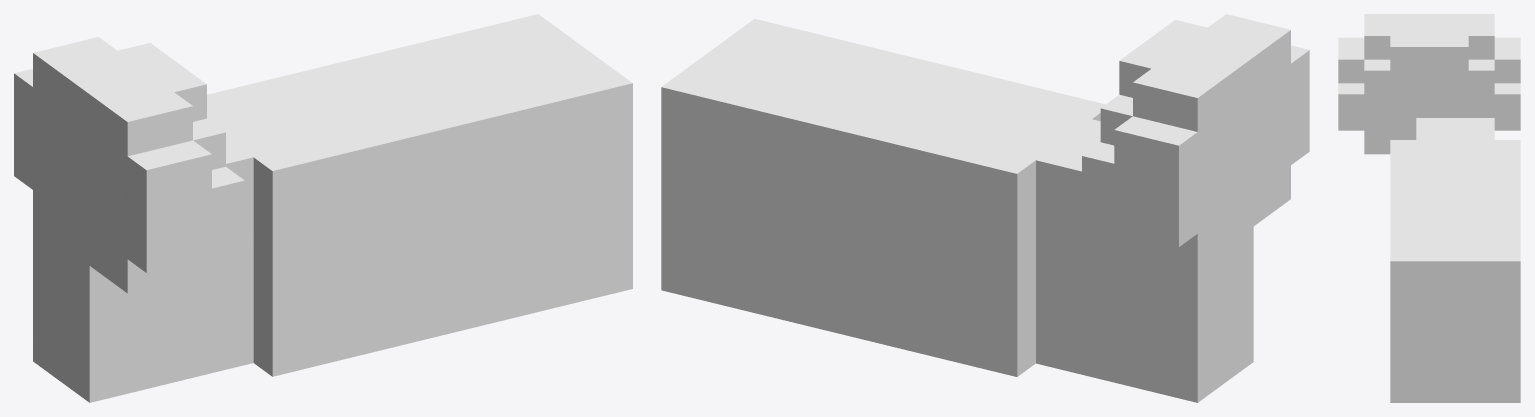
Rendered from arm-upper-l.obj.
3 renders of one model, left to right at view 1: azimuth 30°, elevation 25°; view 2: azimuth 150°, elevation 25°; view 3: azimuth 270°, elevation 25°, orthographic. The views are drawn at different scales.
Parts seen in each view (by area): view 1: _11; view 2: _11; view 3: _11.
Boxes of the visible parts, x1,y1,x2,y2 form: _11: (14,14,632,402); _11: (661,14,1309,402); _11: (1338,14,1520,402).
Bounding box in the file's own units: 16 × 9 × 7.
1 material, 1 textured.
